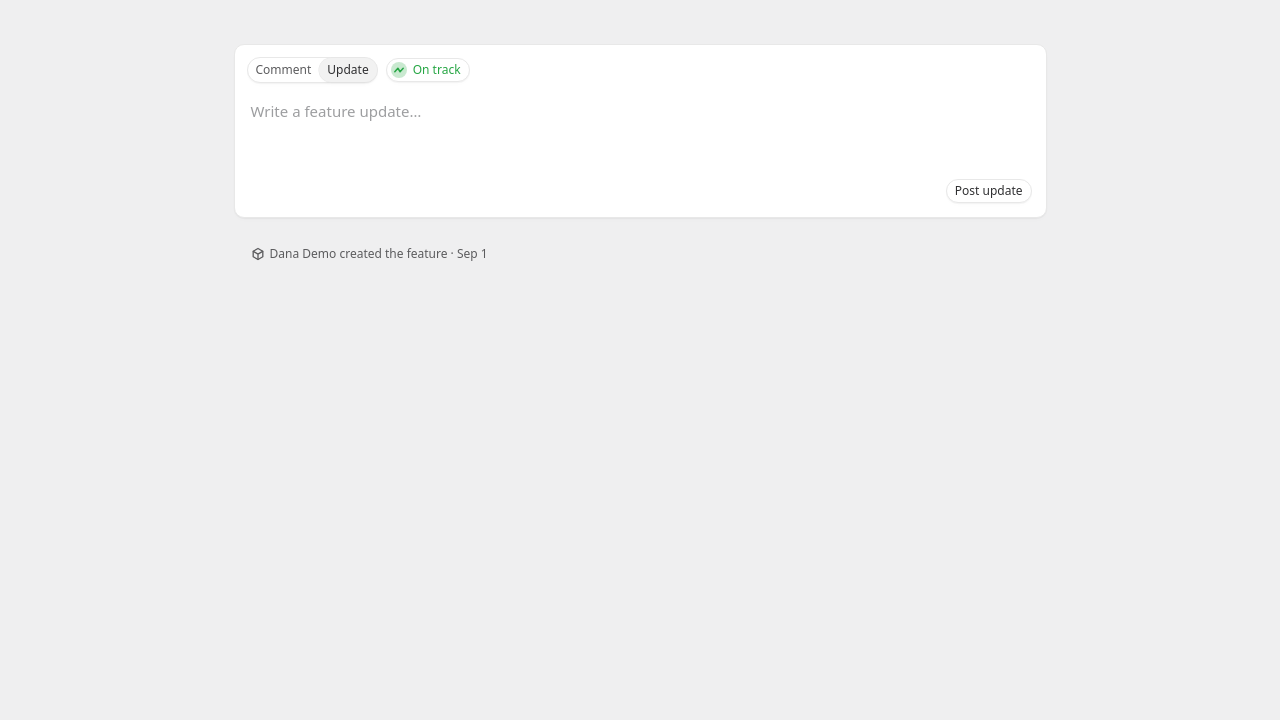
Test: the health picker is a dialog of On track, At risk and Off track with no number keys; choosing sets the chip
Click the button "On track": (428, 70) 386,58 -> 470,82
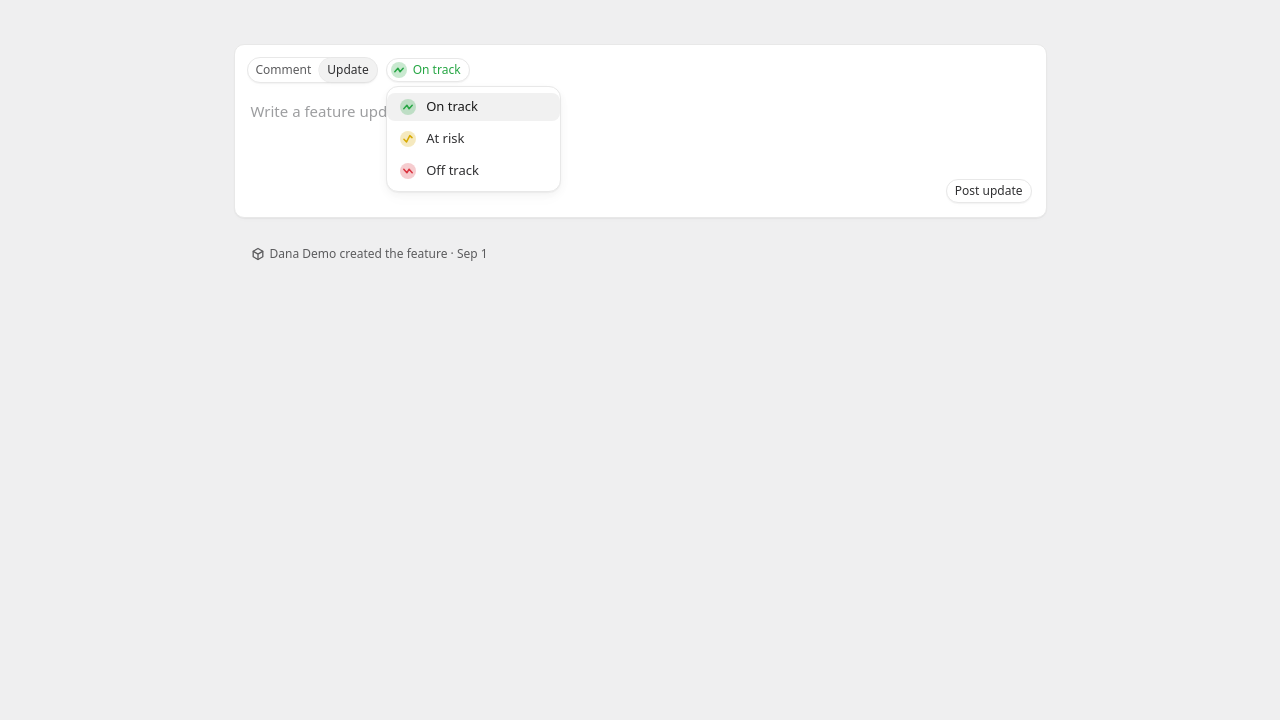
Click the menu item "Off track": (440, 170) 400,161 -> 479,179
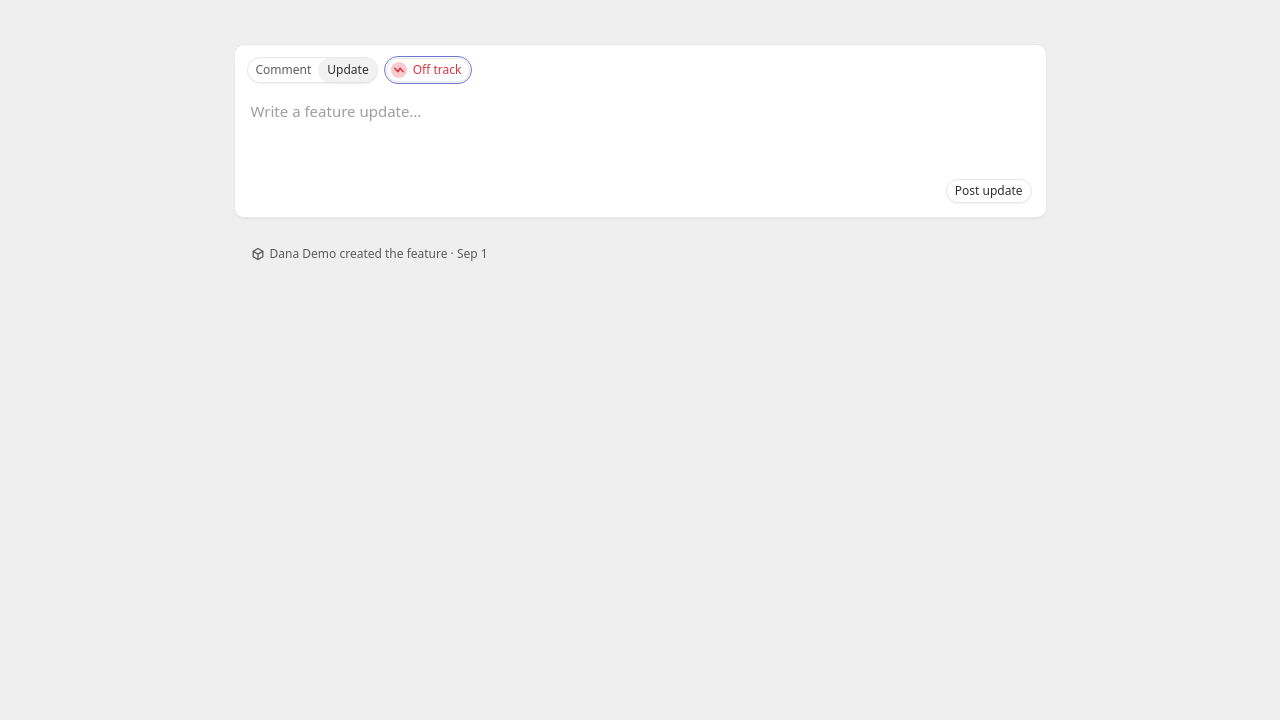
Expected: the dialog is gone
Expected: the button "Off track" is shown, 386,58 -> 470,82
